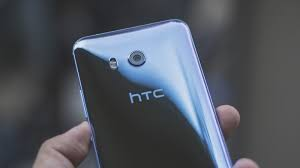htc: (66, 18, 246, 168)
